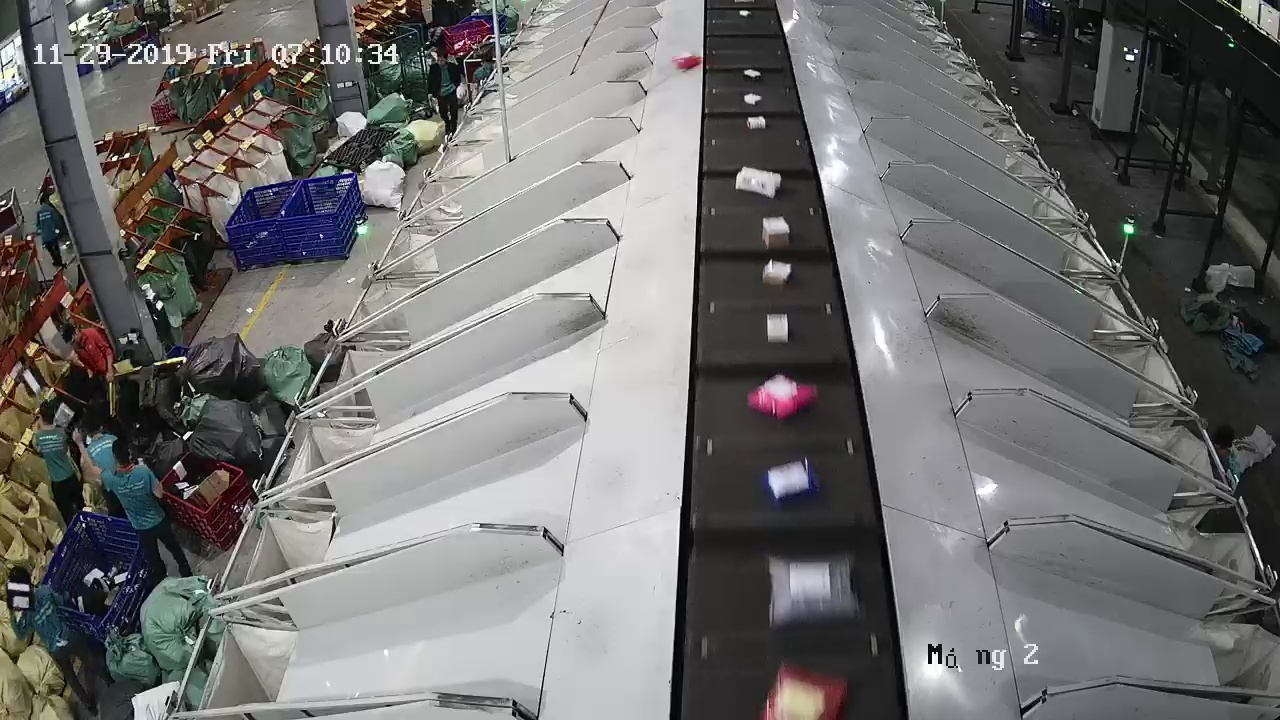parcel: (747, 374, 819, 420), (735, 165, 782, 199), (761, 215, 790, 250), (762, 259, 792, 287), (767, 313, 789, 343), (671, 53, 701, 72), (746, 115, 766, 130), (743, 68, 762, 83), (744, 92, 763, 106)
